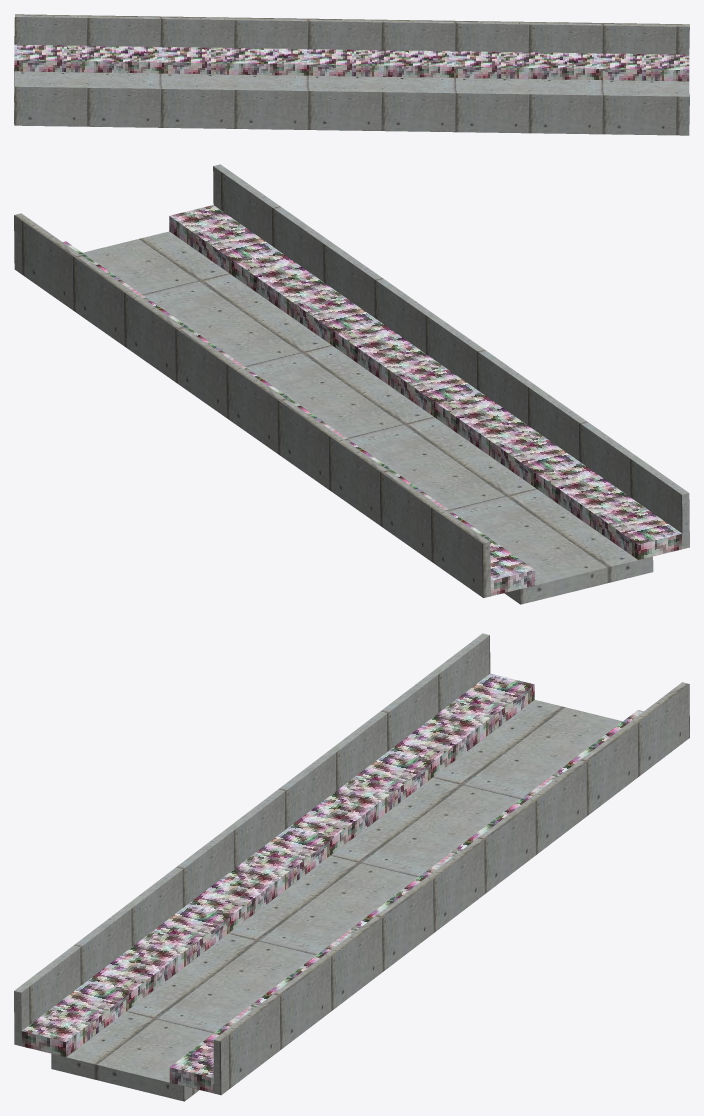
File: GMLID_BUI100628_817_8083.dae
3 views of the same model, one above another, from view 1: azimuth 30°, elevation 25°; view 2: azimuth 150°, elevation 25°; view 3: azimuth 270°, elevation 25° (orthographic). The views are drawn at different scales.
Bounding box in the file's own units: 32.81 × 23.77 × 3.25.
2 materials, 2 textured.
